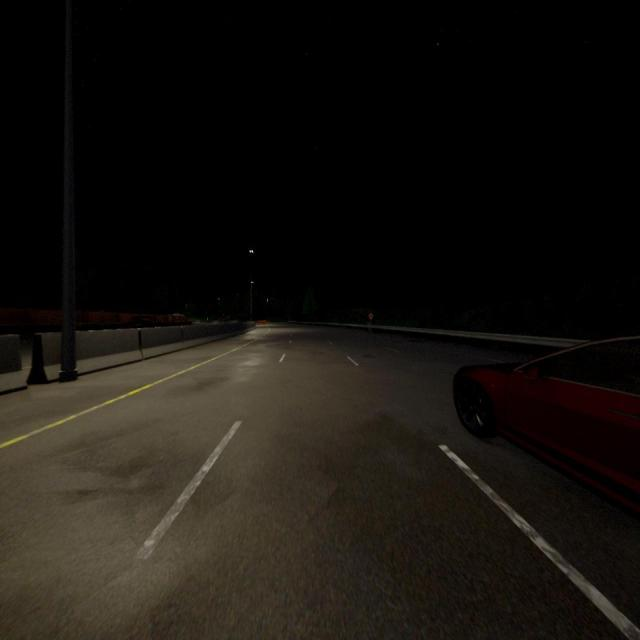Traffic_Signs: (369, 313, 373, 320)
Vehicle: (453, 337, 639, 512)
